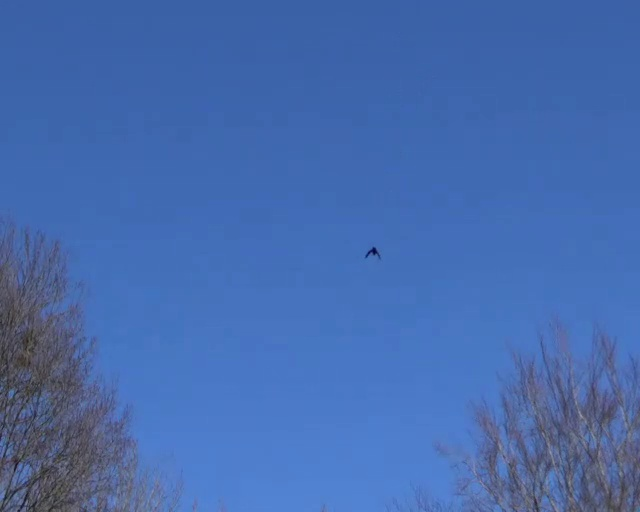BIRD: (365, 246, 380, 260)
